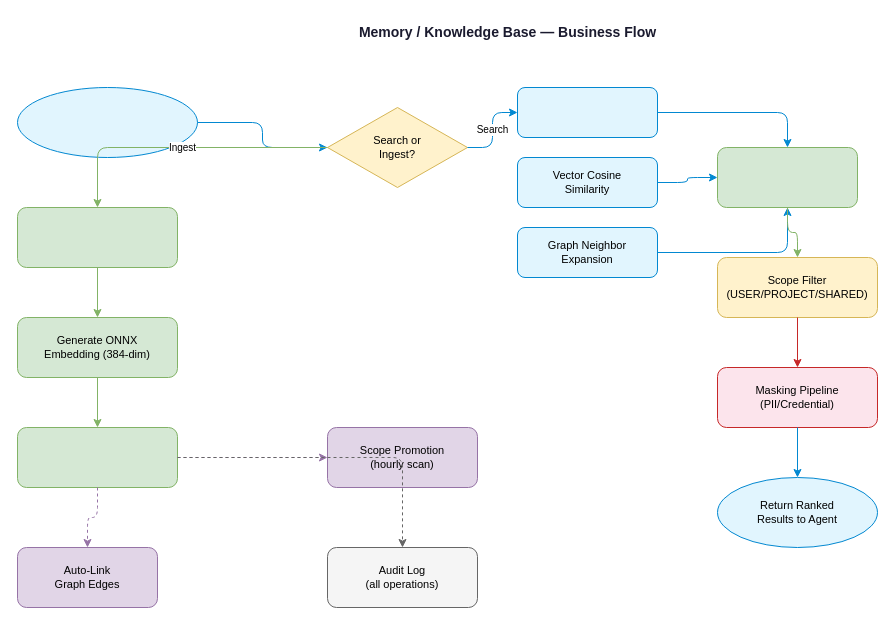
Some shapes in this 895 by 625 pixel diagram are drawn without their labels. Here are the shapes that lost their labels. From the top down, the box of each, then its label:
(16, 86, 198, 158): Agent Calls mem_ingest / mem_search
(516, 86, 658, 138): BM25 FTS5 Query
(716, 146, 858, 208): Merge & Rank Results
(16, 206, 178, 268): Classify Content (type + tier)
(16, 426, 178, 488): Store Entry SQLite + FTS5 + Vector
